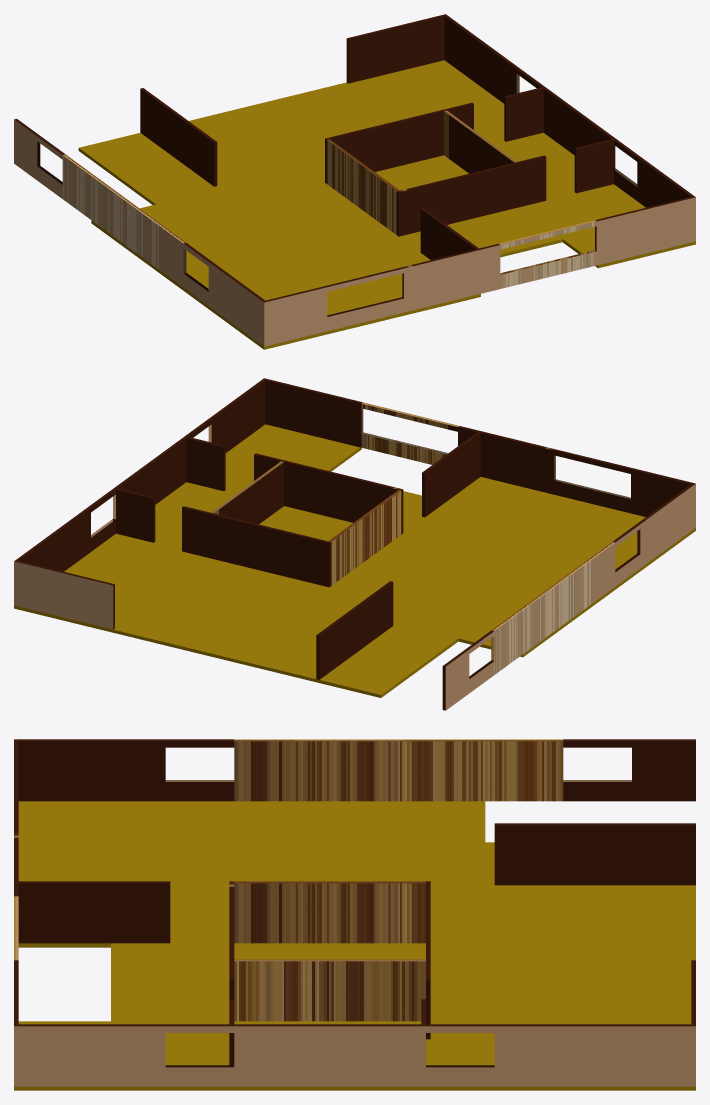
Rendered from builing.gltf.
3 views of the same model, one above another, from view 1: azimuth 30°, elevation 25°; view 2: azimuth 150°, elevation 25°; view 3: azimuth 270°, elevation 25° (orthographic). The views are drawn at different scales.
Parts seen in each view (by area): view 1: cube-col (×26); view 2: cube-col (×26); view 3: cube-col (×24).
Boxes of the visible parts, left/top/right/bottom form: cube-col (×26): left=14, top=14, right=695, bottom=349; cube-col (×26): left=14, top=378, right=695, bottom=710; cube-col (×24): left=14, top=739, right=695, bottom=1090.
Bounding box in the file's own units: 17.94 × 1.88 × 18.
Materials: 4 (4 with a texture image).
